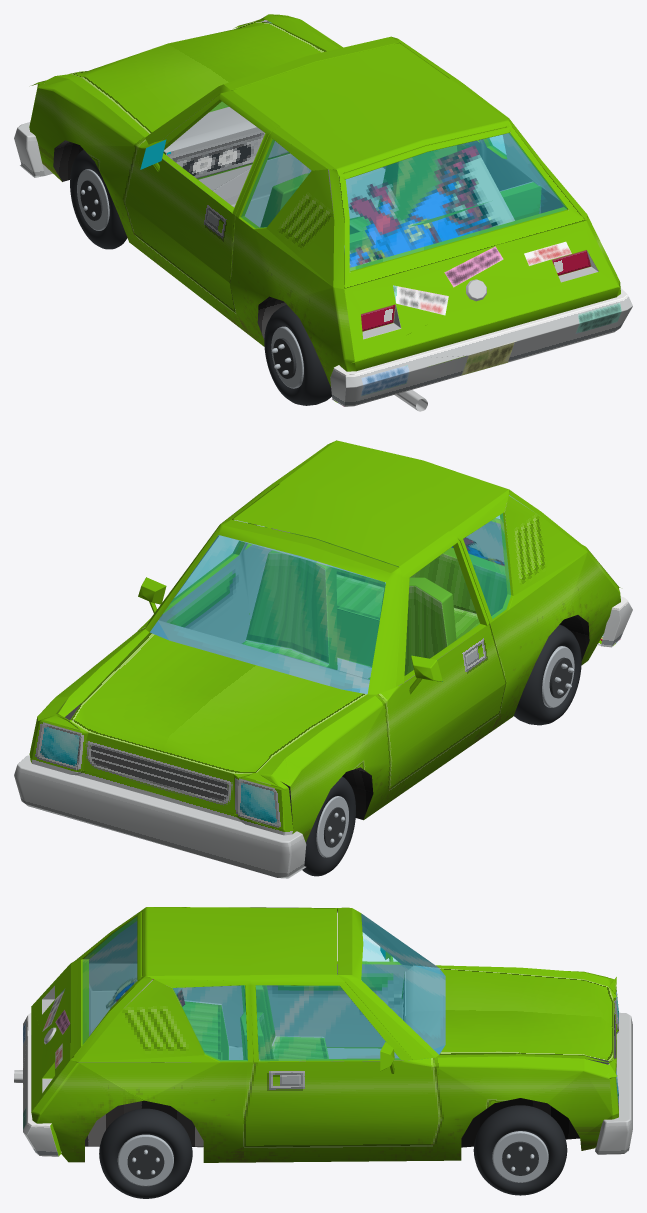
File: car-comic_v.glb
3 renders of one model, top to bottom at view 1: azimuth 30°, elevation 25°; view 2: azimuth 150°, elevation 25°; view 3: azimuth 270°, elevation 25°, orthographic. The views are drawn at different scales.
Visible parts, largest first — view 1: comic_vShape.001, comic_vShape.009, comic_vShape.002, TrunkRotShape.007, comic_vShape.005, HoodRotShape.007, DoorDRotShape.050, biclopsShape, TrunkRotShape.005, comic_vShape.006, comic_vShape.004, comic_vShape.008 (+10 smaller); view 2: comic_vShape.004, comic_vShape.008, comic_vShape.005, HoodRotShape.007, comic_vShape.002, comic_vShape.009, DoorDRotShape.050, comic_vShape.001, DoorPRotShape.057, comic_vShape.006, DoorDRotShape.049, Rounded tire.077 (+9 smaller); view 3: comic_vShape.003, DoorPRotShape.055, comic_vShape.005, HoodRotShape.007, comic_vShape.009, comic_vShape.001, comic_vShape.002, comic_vShape.008, DoorPRotShape.058, DoorDInnerShape.001, comic_vShape.004, comic_vShape.006 (+12 smaller).
Boxes of the visible parts, <box> form: comic_vShape.001: <box>145,36,632,406</box>; comic_vShape.009: <box>232,43,511,175</box>; comic_vShape.002: <box>29,14,620,386</box>; TrunkRotShape.007: <box>346,133,566,270</box>; comic_vShape.005: <box>163,99,563,253</box>; HoodRotShape.007: <box>71,21,326,134</box>; DoorDRotShape.050: <box>124,146,235,312</box>; biclopsShape: <box>348,145,514,267</box>; TrunkRotShape.005: <box>339,127,585,288</box>; comic_vShape.006: <box>266,118,527,286</box>; comic_vShape.004: <box>14,14,449,177</box>; comic_vShape.008: <box>210,102,506,228</box>; comic_vShape.004: <box>14,484,398,878</box>; comic_vShape.008: <box>150,513,510,693</box>; comic_vShape.005: <box>158,503,507,689</box>; HoodRotShape.007: <box>70,632,367,773</box>; comic_vShape.002: <box>30,548,620,842</box>; comic_vShape.009: <box>232,440,508,567</box>; DoorDRotShape.050: <box>386,624,505,789</box>; comic_vShape.001: <box>71,440,632,725</box>; DoorPRotShape.057: <box>159,524,255,643</box>; comic_vShape.006: <box>505,496,587,595</box>; DoorDRotShape.049: <box>395,532,489,694</box>; Rounded tire.077: <box>513,624,581,725</box>; comic_vShape.003: <box>145,1056,584,1162</box>; DoorPRotShape.055: <box>243,1060,441,1146</box>; comic_vShape.005: <box>78,914,445,1062</box>; HoodRotShape.007: <box>439,968,613,1061</box>; comic_vShape.009: <box>141,907,337,979</box>; comic_vShape.001: <box>23,907,444,1158</box>; comic_vShape.002: <box>31,971,618,1162</box>; comic_vShape.008: <box>173,914,445,1061</box>; DoorPRotShape.058: <box>256,985,400,1060</box>; DoorDInnerShape.001: <box>267,964,412,1047</box>; comic_vShape.004: <box>337,908,632,1154</box>; comic_vShape.006: <box>79,979,204,1062</box>.
Bounding box in the file's own units: 2.6 × 1.9 × 5.16.
Materials: 16 (13 with a texture image).
